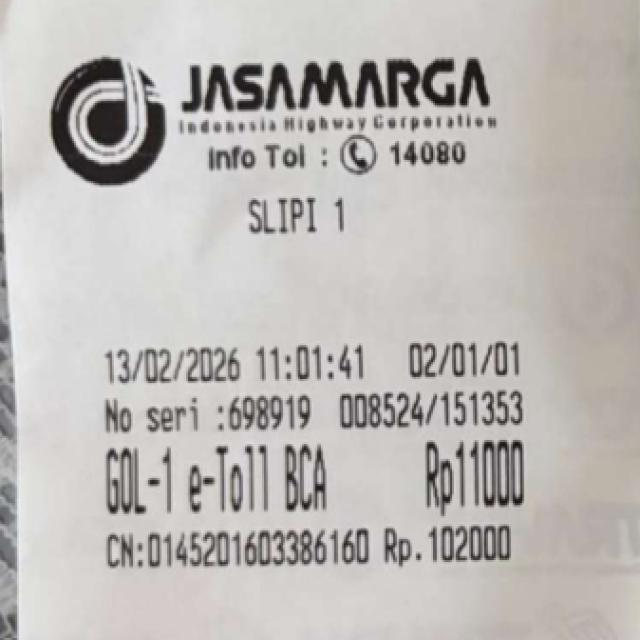date: (87, 343, 371, 384)
store: (177, 59, 508, 141)
total: (414, 441, 545, 518)
